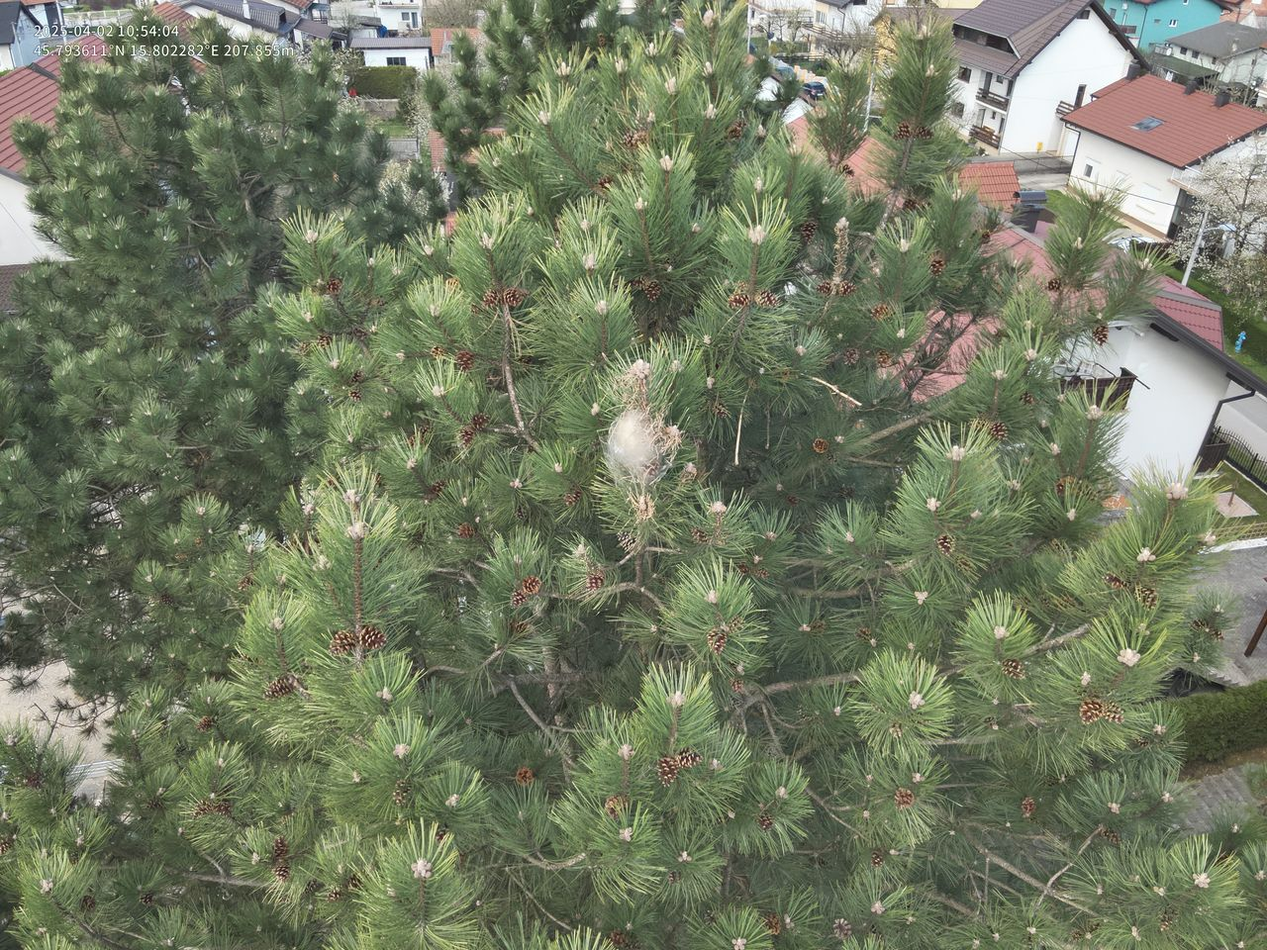thaumatopoea pityocampa jajno gnijezdo: (597, 363, 679, 515)
